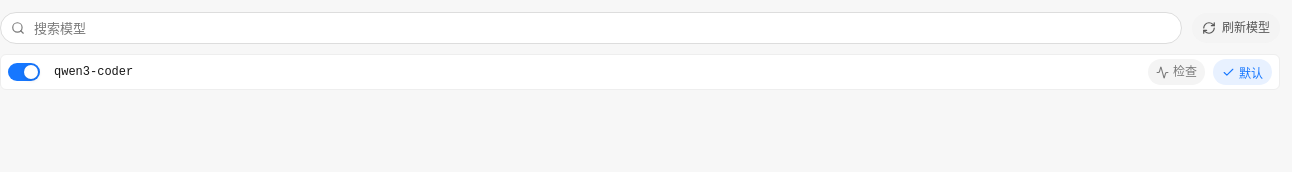
ModelList › shows refresh errors without changing local data
The width and height of the screenshot is (1292, 172).
Click the button "刷新模型". click: [1236, 28]
box: [1192,13,1280,43]
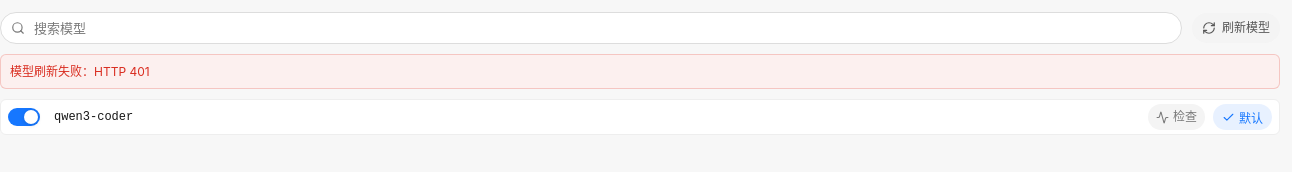
expect the text "qwen3-coder" is shown: met, box [54,110,133,124]
expect the message reads "模型刷新失败：HTTP 401": met, box [10,64,150,79]
